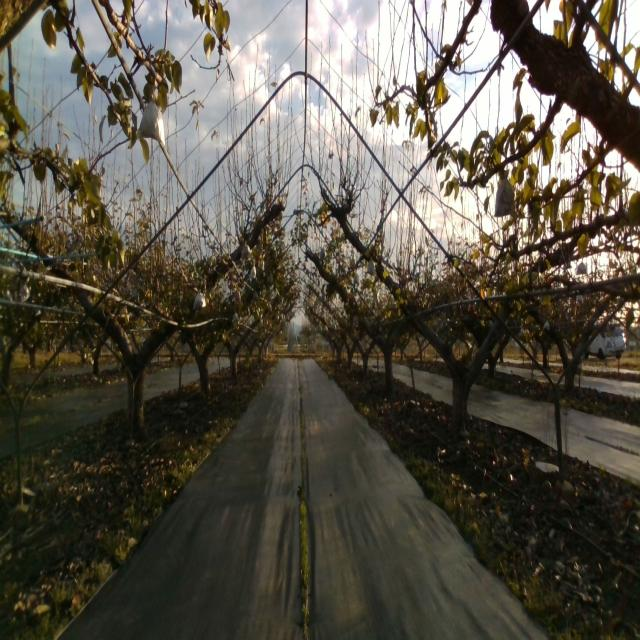pearbags: (135, 90, 162, 142), (494, 168, 516, 220), (192, 288, 207, 310), (364, 256, 375, 276), (241, 242, 252, 260)
